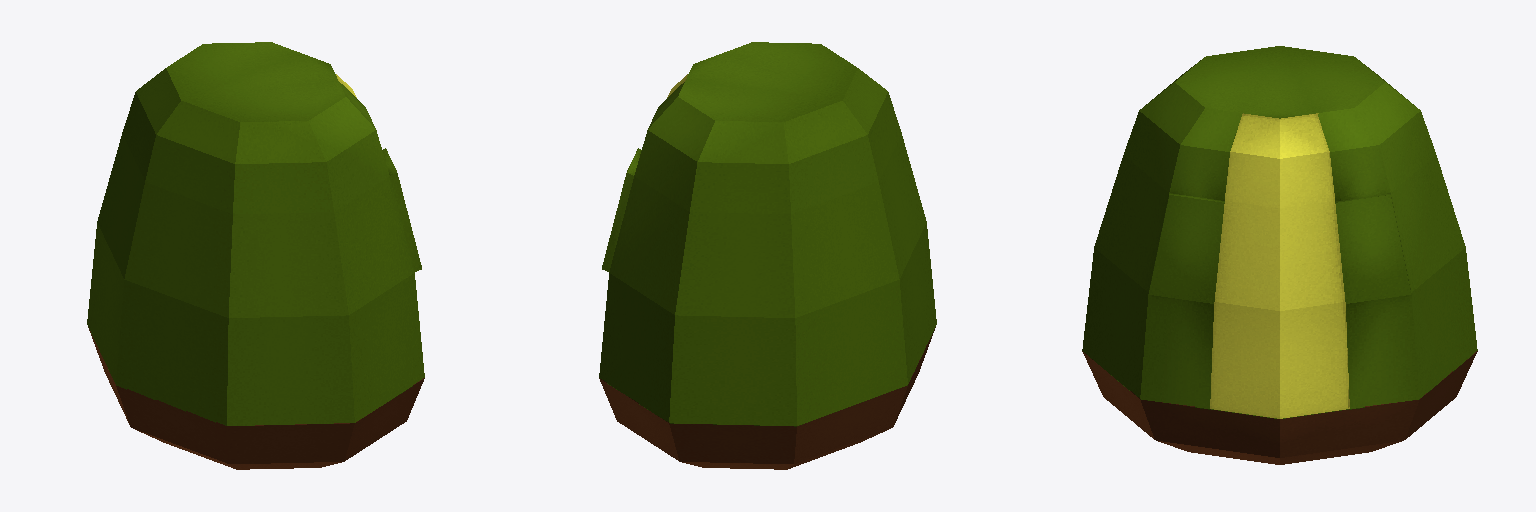
3 renders of one model, left to right at view 1: azimuth 30°, elevation 25°; view 2: azimuth 150°, elevation 25°; view 3: azimuth 270°, elevation 25°, orthographic.
Visible parts, largest first — view 1: Circle.001; view 2: Circle.001; view 3: Circle.001.
Boxes of the visible parts, <box> form: Circle.001: <box>87,42,424,469</box>; Circle.001: <box>599,42,936,469</box>; Circle.001: <box>1082,46,1477,464</box>.
Bounding box in the file's own units: 1.4 × 1.66 × 1.71.
1 materials, 1 textured.